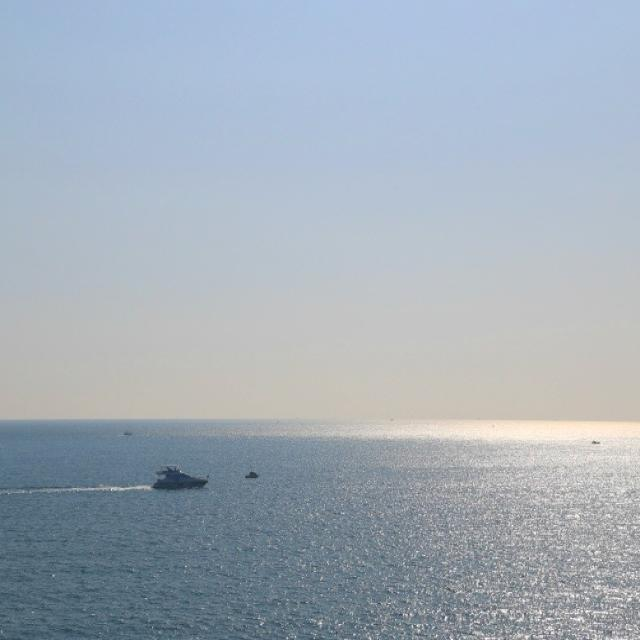houseboat: (150, 455, 212, 497)
